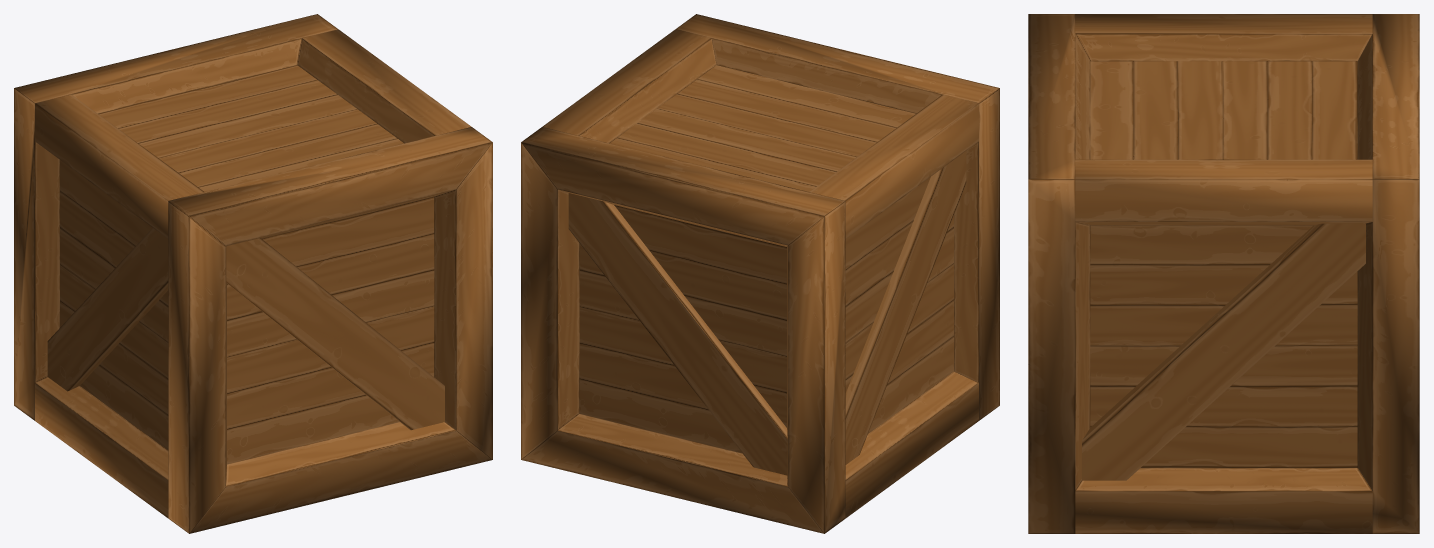
3 renders of one model, left to right at view 1: azimuth 30°, elevation 25°; view 2: azimuth 150°, elevation 25°; view 3: azimuth 270°, elevation 25°, orthographic. The views are drawn at different scales.
Visible parts, largest first — view 1: Box; view 2: Box; view 3: Box.
Part boxes in pixels (left/top/right/bottom): Box: left=14, top=14, right=492, bottom=533; Box: left=521, top=14, right=999, bottom=533; Box: left=1028, top=14, right=1419, bottom=533.
Bounding box in the file's own units: 237 × 237 × 237.
